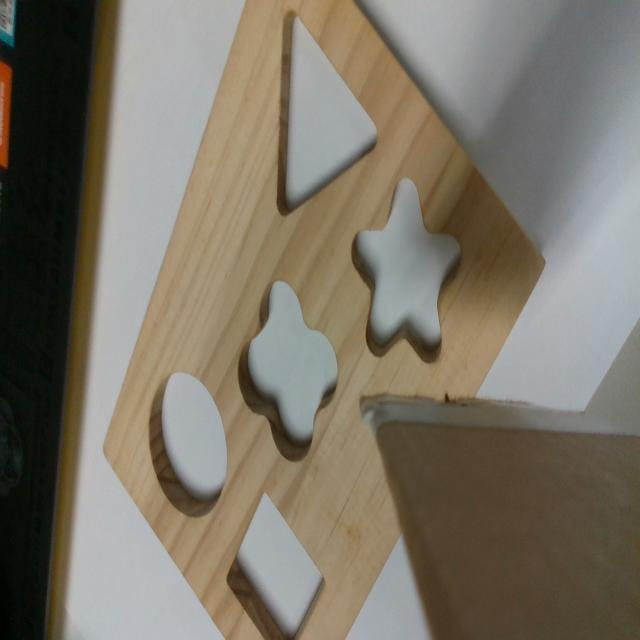circle: (148, 372, 227, 522)
flower: (236, 278, 339, 462)
square: (224, 490, 327, 638)
star: (351, 178, 460, 364)
triangle: (276, 8, 379, 220)
